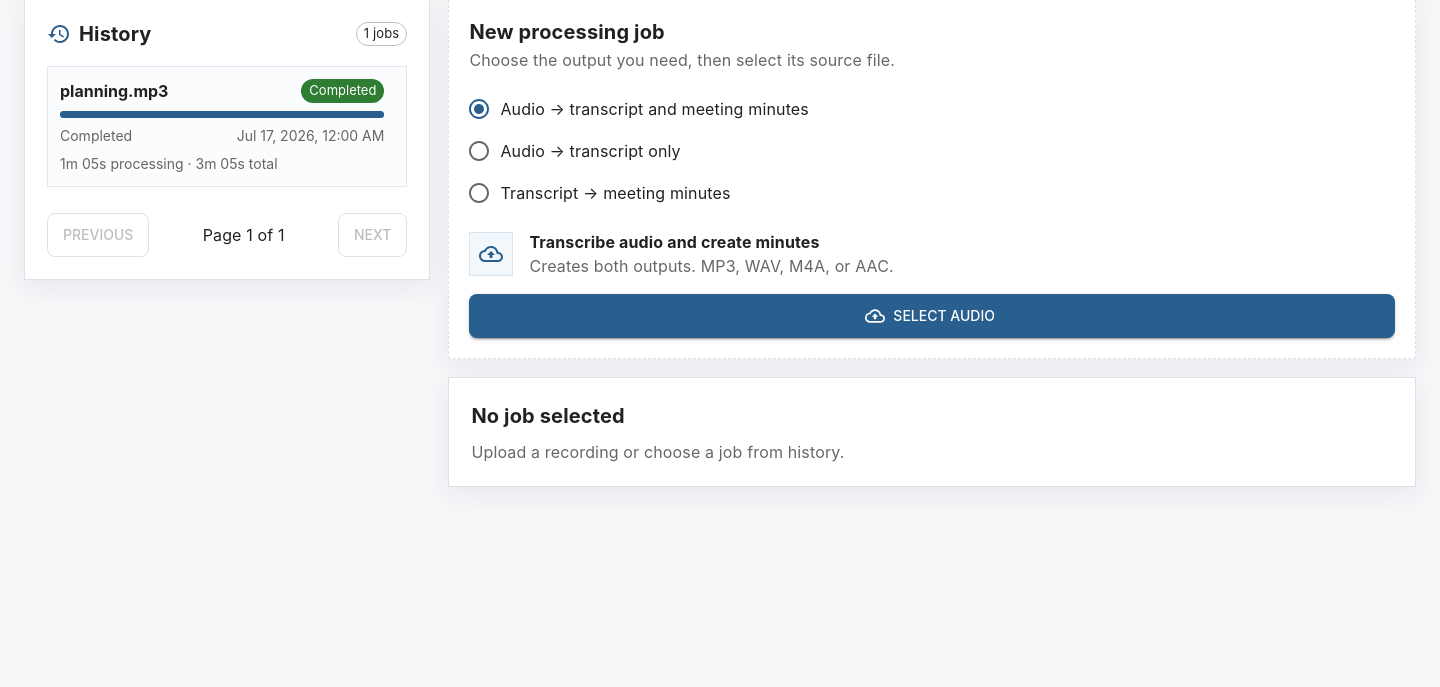
Test: MeetingMind workflow › loads completed minutes, transcript, and download links from history
Click the button "planning.mp3" at {"x": 114, "y": 91}, box [60,79,384,174]
(page scrolled)
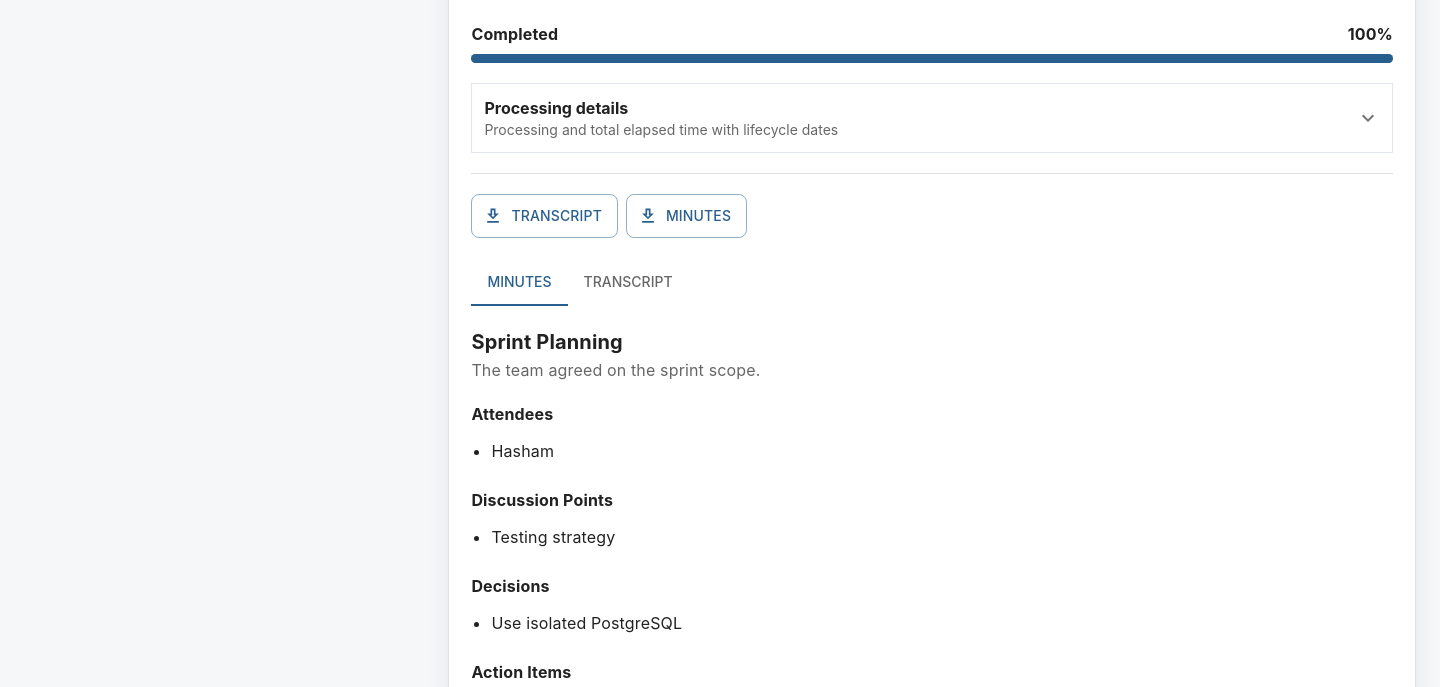
Expected: the heading "Sprint Planning" is shown, [471,330,623,354]
Expected: the list item "Use isolated PostgreSQL" is shown, [491,613,682,633]
Click the tab "Transcript" at {"x": 628, "y": 282}, box [568,258,689,306]
(page scrolled)
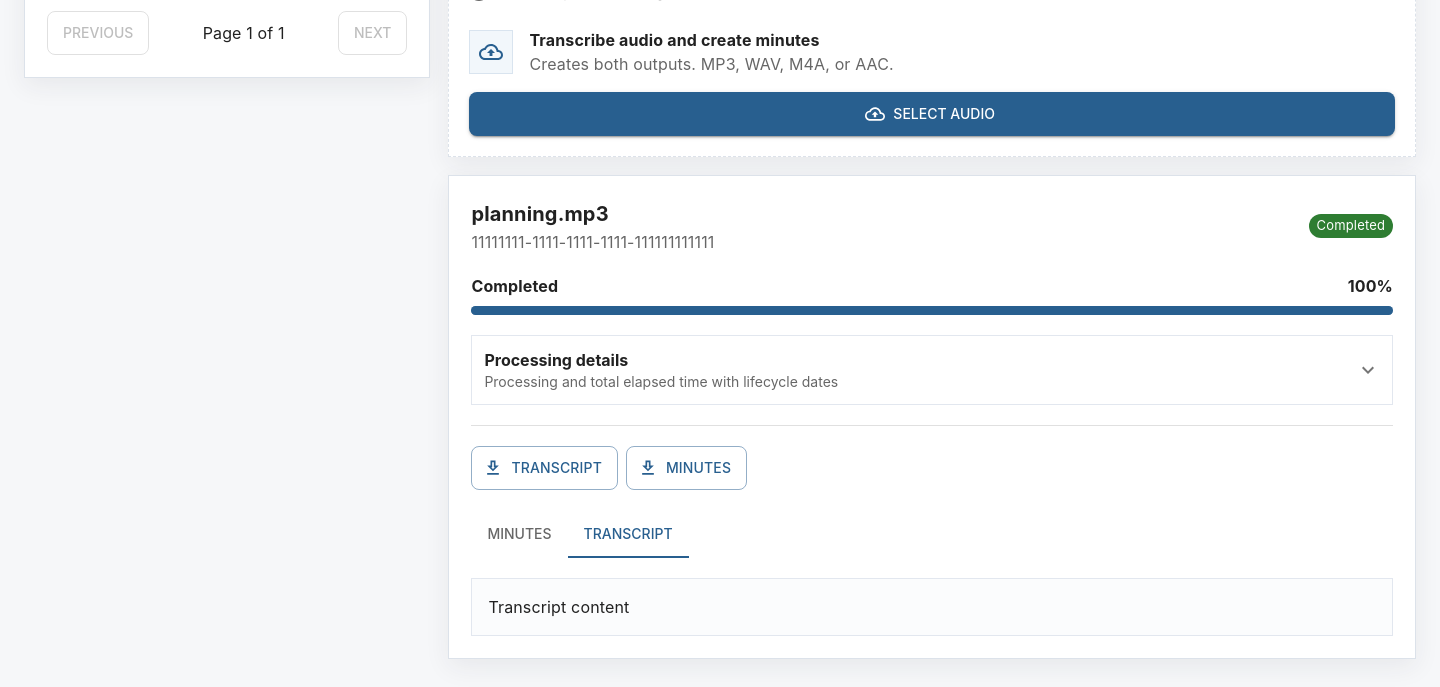
Expected: the text "Transcript content" is shown, [488,597,629,617]
